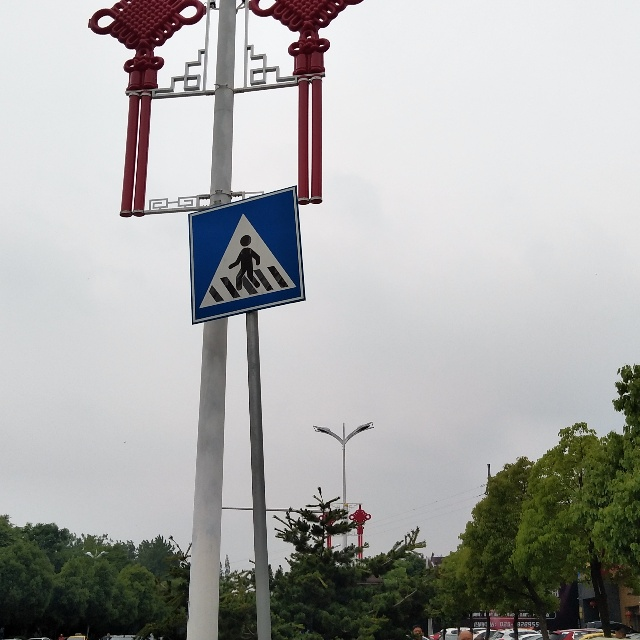crosswalk: (189, 186, 306, 323)
